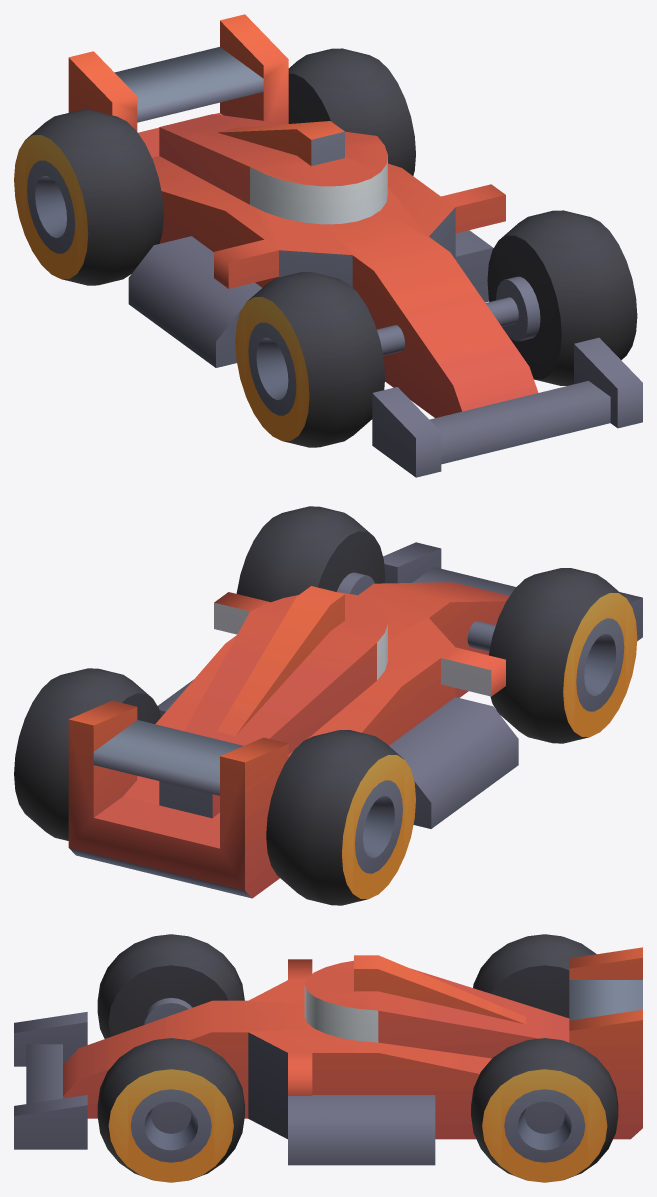
The model's file is k-car-race.glb.
The picture shows the model from 3 angles, top to bottom: view 1: azimuth 30°, elevation 25°; view 2: azimuth 150°, elevation 25°; view 3: azimuth 270°, elevation 25°; orthographic projection. The views are drawn at different scales.
Visible parts, largest first — view 1: body, wheel-back-right, wheel-front-right, wheel-front-left, wheel-back-left; view 2: body, wheel-back-right, wheel-front-right, wheel-back-left, wheel-front-left; view 3: body, wheel-back-left, wheel-front-left, wheel-front-right, wheel-back-right.
Part boxes in pixels (left/top/right/bottom): body: left=68, top=14, right=642, bottom=477; wheel-back-right: left=14, top=110, right=163, bottom=285; wheel-front-right: left=235, top=272, right=385, bottom=447; wheel-front-left: left=487, top=210, right=637, bottom=385; wheel-back-left: left=288, top=48, right=415, bottom=175; body: left=68, top=542, right=642, bottom=898; wheel-back-right: left=266, top=730, right=415, bottom=905; wheel-front-right: left=489, top=568, right=637, bottom=743; wheel-back-left: left=14, top=668, right=161, bottom=840; wheel-front-left: left=236, top=506, right=385, bottom=602; body: left=14, top=947, right=642, bottom=1165; wheel-back-left: left=471, top=1038, right=618, bottom=1182; wheel-front-left: left=97, top=1038, right=244, bottom=1182; wheel-front-right: left=97, top=934, right=244, bottom=1038; wheel-back-right: left=473, top=934, right=596, bottom=1018.
Bounding box in the file's own units: 1.3 × 0.7325 × 2.56.
1 material, 1 textured.
